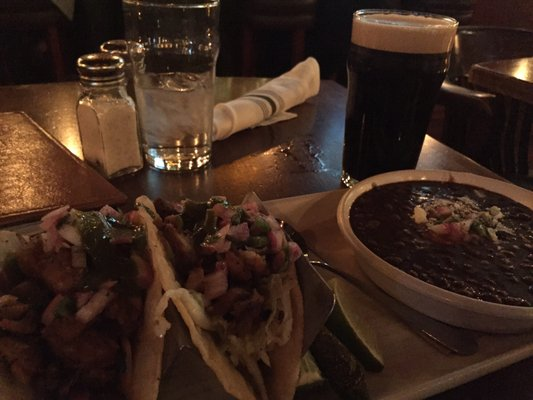soup: (0, 192, 307, 400)
sushi: (336, 168, 533, 343)
